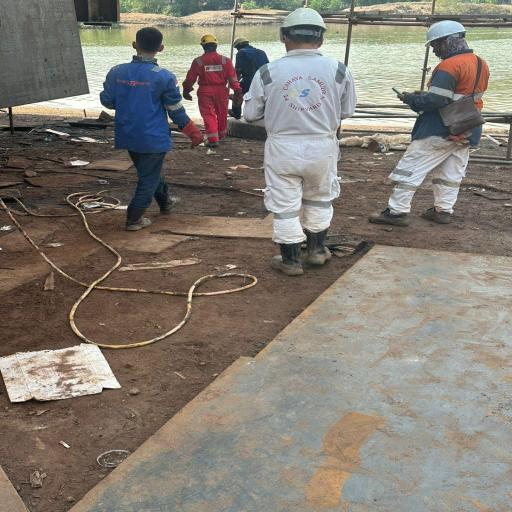safety_shoe: (300, 229, 339, 270), (265, 242, 307, 278), (362, 206, 412, 229), (152, 188, 188, 215), (125, 204, 154, 232), (420, 206, 456, 228), (204, 139, 224, 147)
